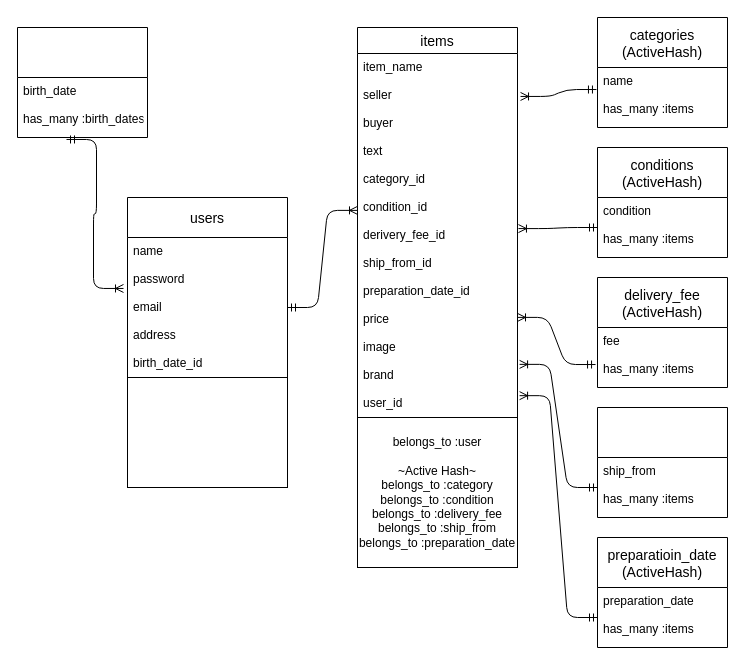
Image size: 745x668. Some labels were removed from this diagram. The box of each missing label's shape, as (x1, y1, x2, y2) in pixels:
birth_dates (ActiveHash): (16, 26, 148, 138)
has_many :items ~Active Hash~ belongs_to :birth_date: (126, 376, 288, 488)
ship_froms (ActiveHash): (596, 406, 728, 518)
